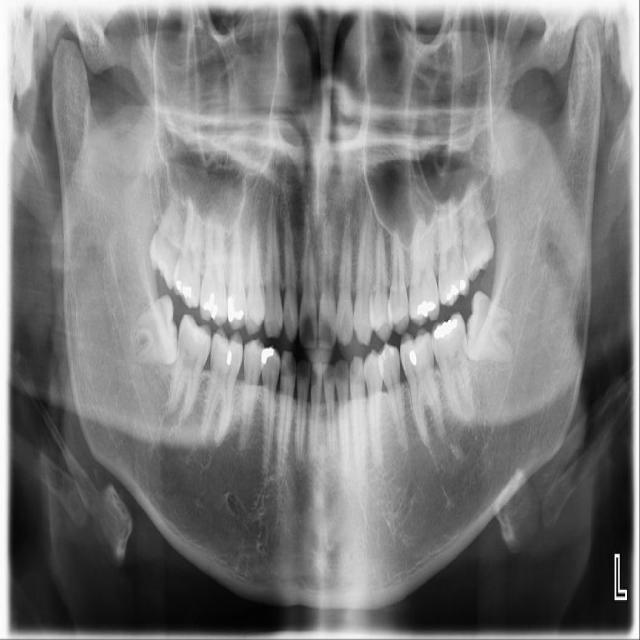3M ESPE Implant: (148, 184, 187, 292)
52: (429, 311, 469, 369), (208, 325, 246, 380), (405, 273, 442, 327), (400, 328, 434, 380), (437, 255, 470, 307), (172, 256, 203, 308), (199, 279, 226, 327), (227, 284, 247, 331), (260, 345, 281, 385)
73: (610, 535, 612, 544)
BioHorizons Implant: (437, 191, 472, 307)
BioLife Implant: (458, 175, 496, 284)
Biomet 3i Implant: (462, 291, 518, 363)
Blue Sky Bio Implant: (429, 311, 477, 425)
Caries: (174, 196, 205, 310)
Implant: (158, 310, 218, 427)
Keystone Dental Implant: (127, 292, 183, 369)
